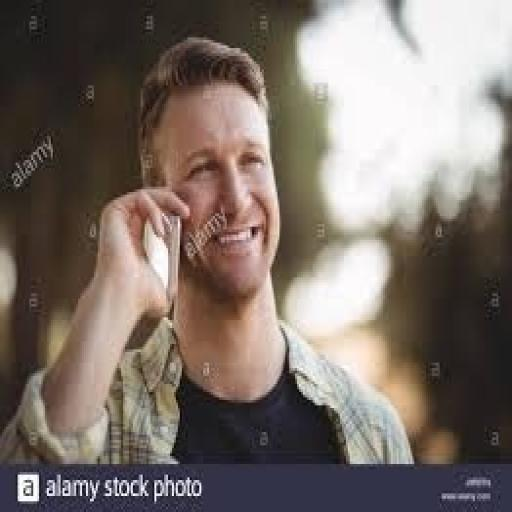calling: (0, 32, 418, 467)
